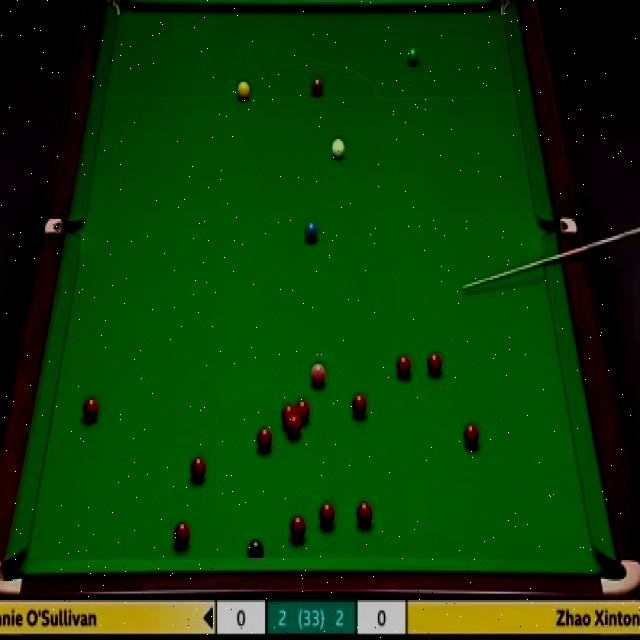black-ball: (247, 540, 264, 556)
blue-ball: (303, 220, 318, 242)
brown-ball: (310, 76, 324, 97)
green-ball: (407, 44, 419, 64)
pink-ball: (309, 357, 324, 382)
red-ball: (255, 425, 274, 453), (318, 502, 336, 530), (172, 520, 191, 546), (189, 455, 208, 481), (286, 413, 303, 441), (288, 514, 306, 540), (463, 421, 479, 450), (293, 398, 311, 423), (426, 350, 442, 377), (356, 502, 374, 525), (81, 398, 99, 421), (352, 392, 368, 417), (282, 404, 297, 429), (397, 356, 412, 378)
white-ball: (330, 136, 346, 159)
yellow-ball: (234, 80, 251, 101)
